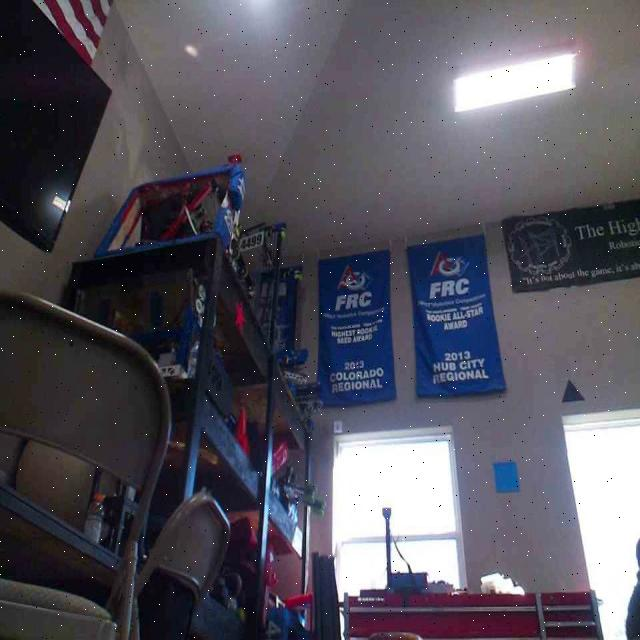square_blue: (492, 460, 522, 490)
star_red: (233, 301, 245, 331)
triangle_black: (560, 378, 585, 402)
